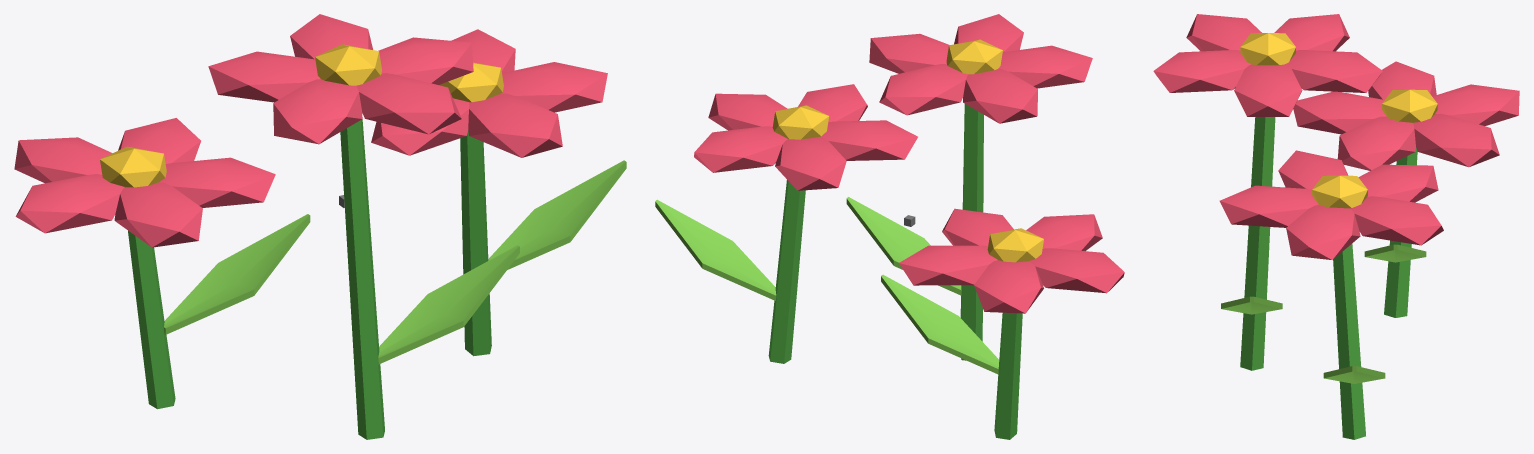
The model's file is Flowers.fbx.
3 renders of one model, left to right at view 1: azimuth 30°, elevation 25°; view 2: azimuth 150°, elevation 25°; view 3: azimuth 270°, elevation 25°, orthographic. The views are drawn at different scales.
Visible parts, largest first — view 1: Flowers_Body, Flowers_Leaf, Flowers_LeafLight, Flowers_Pollen; view 2: Flowers_Body, Flowers_LeafLight, Flowers_Leaf, Flowers_Pollen; view 3: Flowers_Body, Flowers_Leaf, Flowers_Pollen, Flowers_LeafLight.
Part boxes in pixels (x1,y1,x2,y2): Flowers_Body: (14, 14, 607, 247); Flowers_Leaf: (128, 119, 491, 439); Flowers_LeafLight: (164, 160, 626, 364); Flowers_Pollen: (100, 44, 503, 187); Flowers_Body: (694, 14, 1124, 313); Flowers_LeafLight: (655, 197, 999, 374); Flowers_Leaf: (768, 104, 1022, 439); Flowers_Pollen: (772, 39, 1043, 262); Flowers_Body: (1153, 14, 1519, 259); Flowers_Leaf: (1240, 117, 1417, 439); Flowers_Pollen: (1240, 33, 1437, 208); Flowers_LeafLight: (1221, 244, 1426, 383).
Size of the model in its own units: 278 by 177 by 178.
